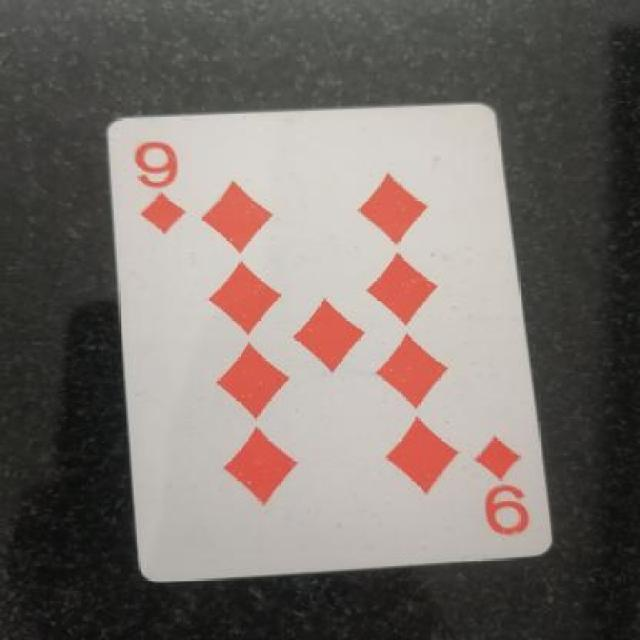9D: (468, 414, 538, 554), (128, 129, 184, 256)
